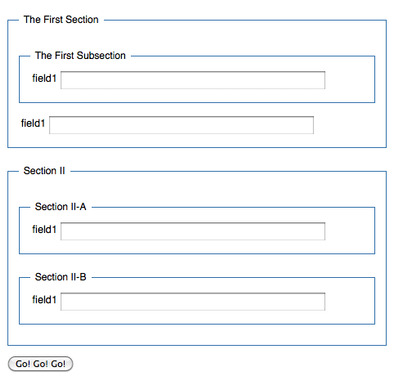_form_: (1, 1, 395, 380)
button: (7, 356, 73, 373)
field: (57, 291, 326, 312), (59, 70, 327, 91), (47, 115, 315, 136), (58, 222, 327, 241)
field_with_label: (31, 290, 327, 314), (31, 69, 329, 92), (21, 114, 317, 137), (33, 221, 327, 242)
